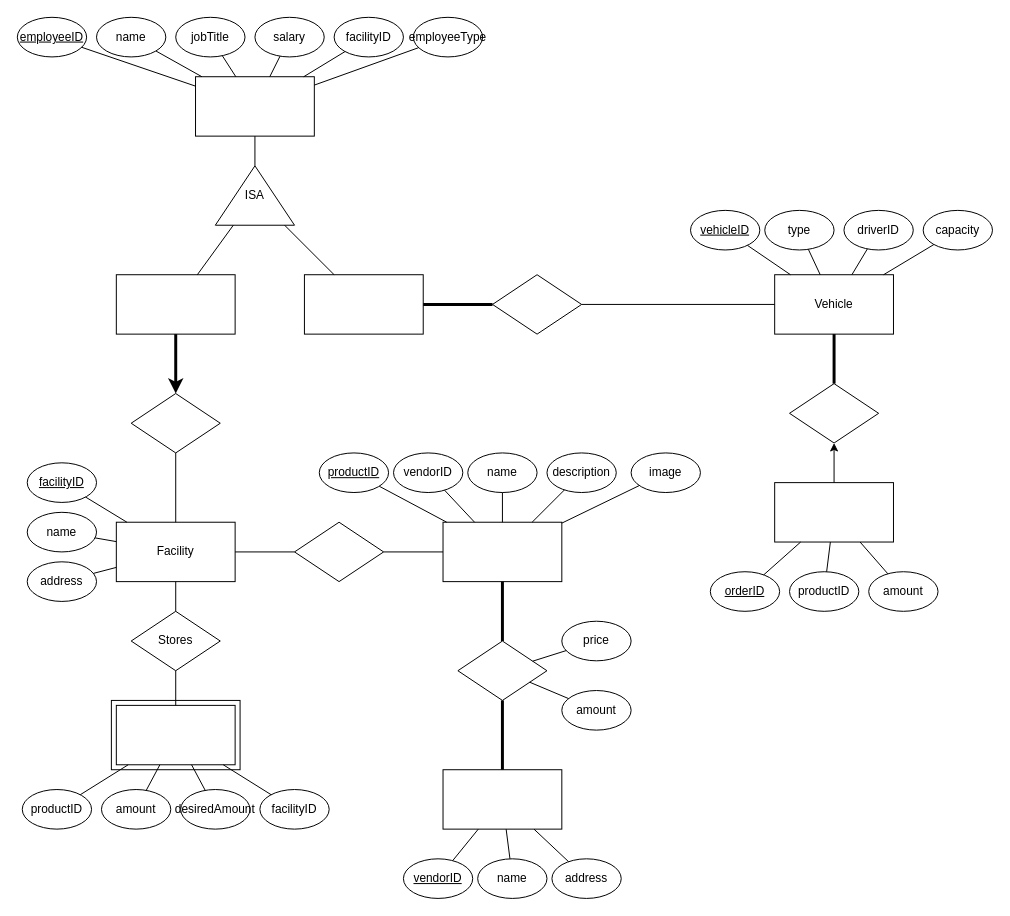
The diagram is 1010 pixels wide and 916 high, and some of its shapes have lost their labels. Here are the shapes that lost their labels. From the top down, the box of each, then its label:
(195, 76, 314, 136): Employee
(115, 274, 235, 334): Facility Employee
(303, 274, 423, 334): Driver
(492, 274, 582, 334): Drives
(130, 393, 220, 453): Works At
(789, 383, 879, 443): Delivers
(774, 482, 893, 542): Order
(294, 521, 384, 582): Purchases
(442, 521, 562, 582): Product
(457, 640, 547, 700): Sells
(115, 704, 235, 765): Stock
(442, 769, 562, 829): Vendor
